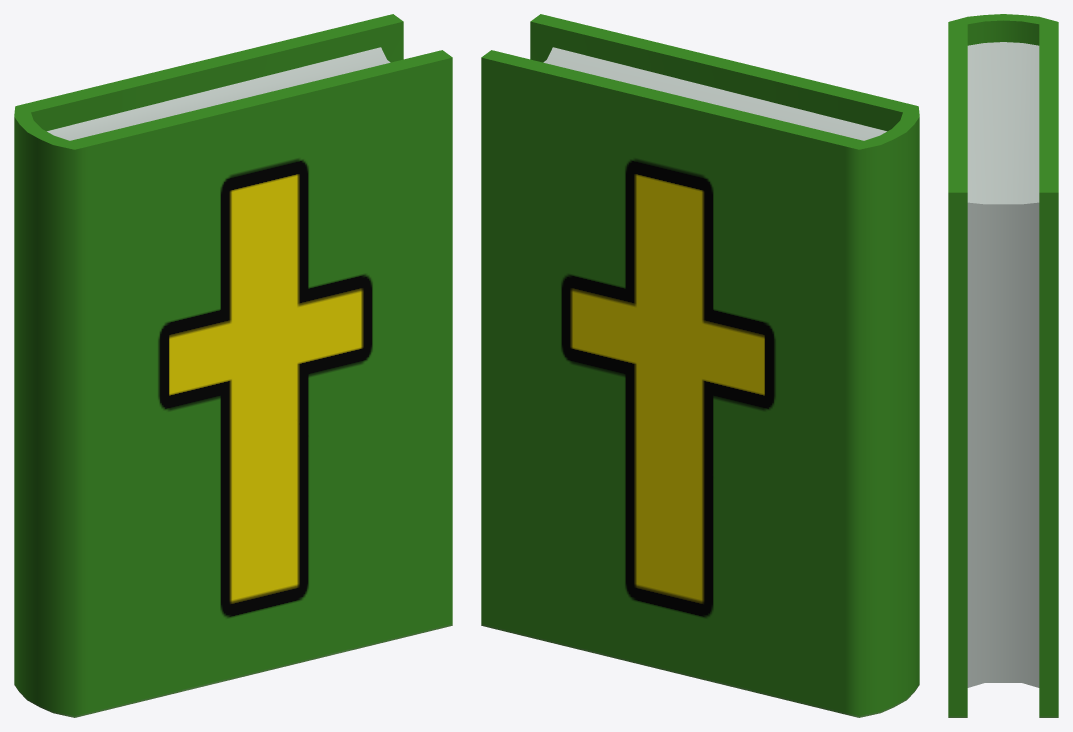
File: book.fbx
3 renders of one model, left to right at view 1: azimuth 30°, elevation 25°; view 2: azimuth 150°, elevation 25°; view 3: azimuth 270°, elevation 25°, orthographic. The views are drawn at different scales.
Visible parts, largest first — view 1: book; view 2: book; view 3: book.
Boxes of the visible parts, x1,y1,x2,y2 form: book: [14, 14, 452, 717]; book: [481, 14, 919, 717]; book: [948, 14, 1058, 717].
Size of the model in its own units: 122 by 168 by 31.81.
Materials: 1 (1 with a texture image).
